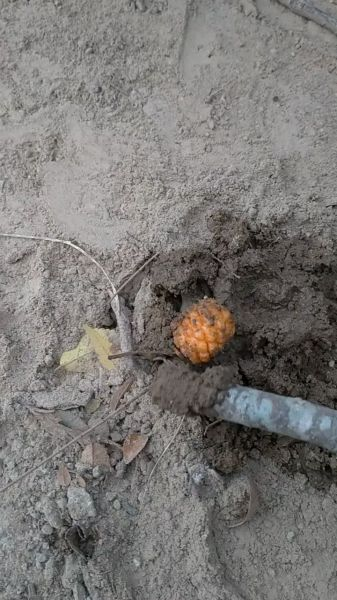eggs: (168, 297, 237, 360)
